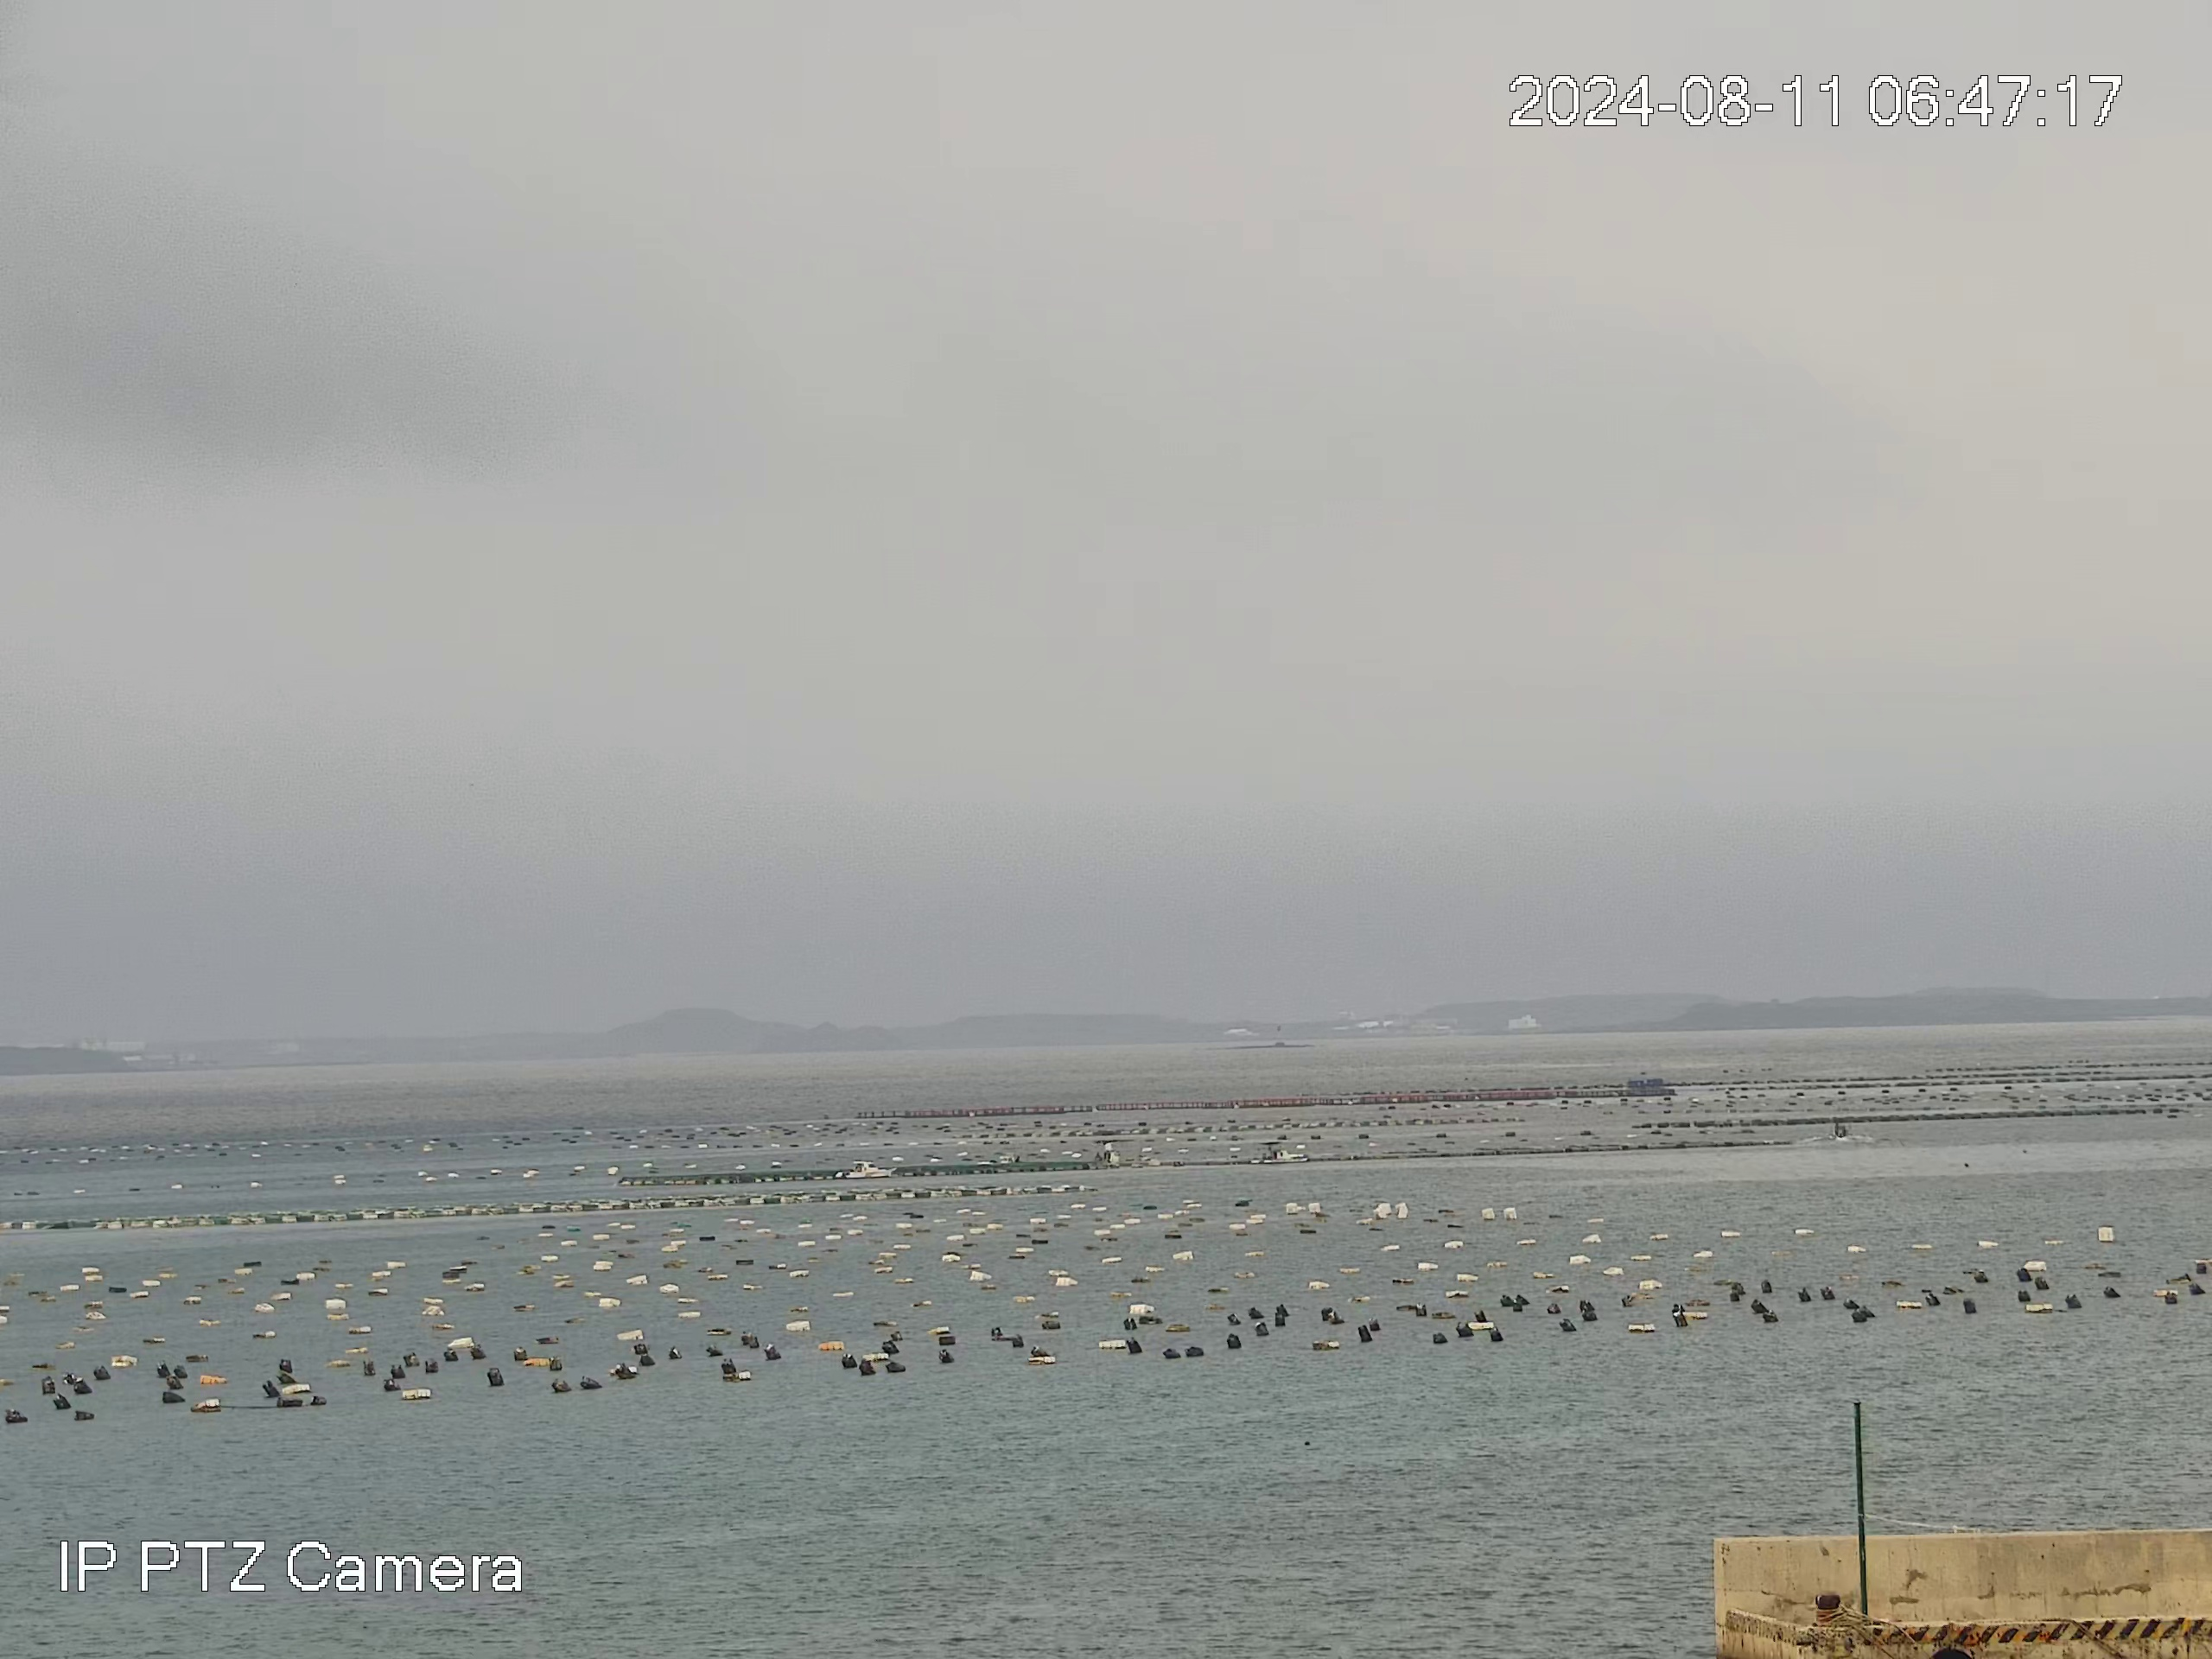boat: (1256, 1140, 1310, 1164), (833, 1159, 890, 1180)
